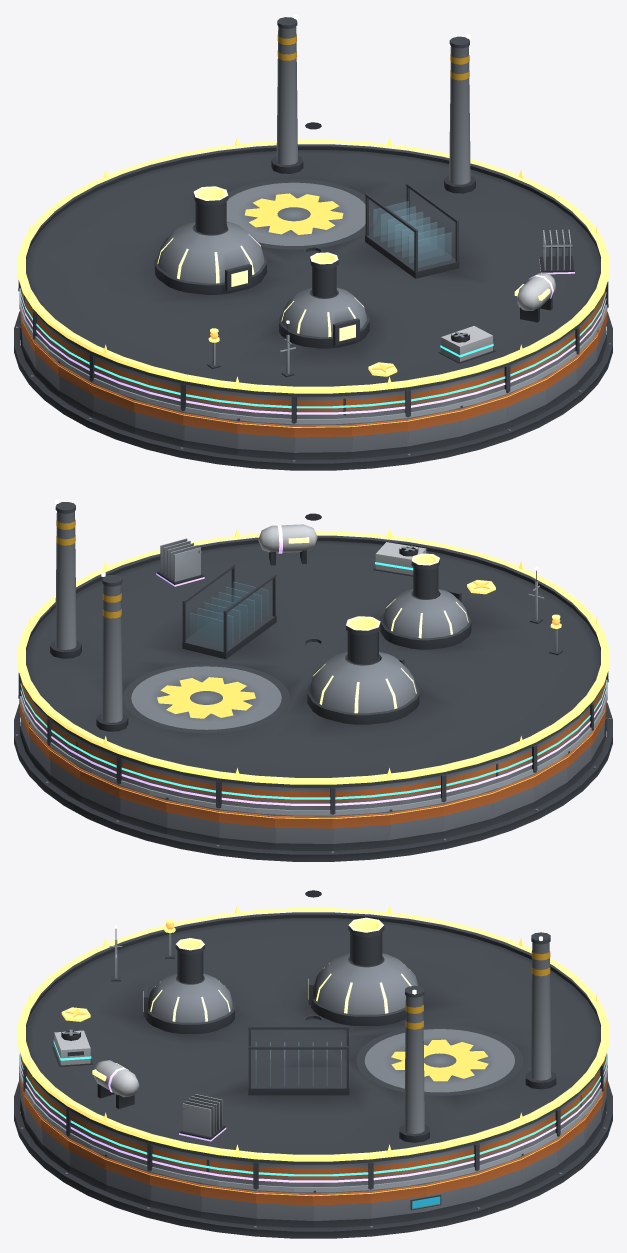
Rendered from glassworks_l.glb.
The picture shows the model from 3 angles, top to bottom: view 1: azimuth 30°, elevation 25°; view 2: azimuth 150°, elevation 25°; view 3: azimuth 270°, elevation 25°; orthographic projection.
Parts seen in each view (by area): view 1: Roof, Base, L4, Wall_20, Wall_21, Wall_22, Wall_19, Wall_23, Wall_18, Wall_24, L3, Wall_17 (+17 smaller); view 2: Roof, Base, L4, Wall_11, Wall_10, Wall_09, Wall_12, Wall_08, Wall_13, Wall_07, Wall_14, Wall_06 (+22 smaller); view 3: Roof, Base, L4, Wall_00, Wall_31, Wall_30, Wall_01, Wall_29, Wall_02, Wall_28, Wall_03, Wall_04 (+24 smaller).
Boxes of the visible parts, left/top/right/bottom form: Roof: left=24, top=14, right=602, bottom=396; Base: left=14, top=311, right=612, bottom=470; L4: left=514, top=229, right=574, bottom=322; Wall_20: left=237, top=418, right=294, bottom=459; Wall_21: left=294, top=423, right=351, bottom=459; Wall_22: left=351, top=418, right=408, bottom=458; Wall_19: left=183, top=412, right=237, bottom=455; Wall_23: left=407, top=408, right=460, bottom=453; Wall_18: left=134, top=399, right=183, bottom=446; Wall_24: left=460, top=394, right=507, bottom=442; L3: left=304, top=247, right=495, bottom=363; Wall_17: left=92, top=383, right=134, bottom=433; Roof: left=24, top=499, right=602, bottom=787; Base: left=14, top=702, right=612, bottom=861; L4: left=156, top=524, right=317, bottom=586; Wall_11: left=332, top=811, right=389, bottom=850; Wall_10: left=275, top=814, right=332, bottom=850; Wall_09: left=218, top=809, right=275, bottom=849; Wall_12: left=389, top=803, right=443, bottom=846; Wall_08: left=166, top=797, right=219, bottom=844; Wall_13: left=443, top=790, right=492, bottom=838; Wall_07: left=119, top=785, right=166, bottom=834; Wall_14: left=492, top=774, right=534, bottom=825; Wall_06: left=80, top=767, right=120, bottom=820; Roof: left=24, top=890, right=602, bottom=1164; Base: left=14, top=1081, right=612, bottom=1238; L4: left=92, top=1060, right=226, bottom=1141; Wall_00: left=313, top=1190, right=370, bottom=1227; Wall_31: left=256, top=1190, right=313, bottom=1227; Wall_30: left=200, top=1183, right=256, bottom=1225; Wall_01: left=370, top=1183, right=426, bottom=1225; Wall_29: left=150, top=1172, right=201, bottom=1218; Wall_02: left=425, top=1172, right=476, bottom=1218; Wall_28: left=105, top=1154, right=150, bottom=1206; Wall_03: left=476, top=1156, right=521, bottom=1206; Wall_04: left=520, top=1138, right=558, bottom=1190.
Size of the model in its own units: 18.96 by 7.79 by 18.96.
